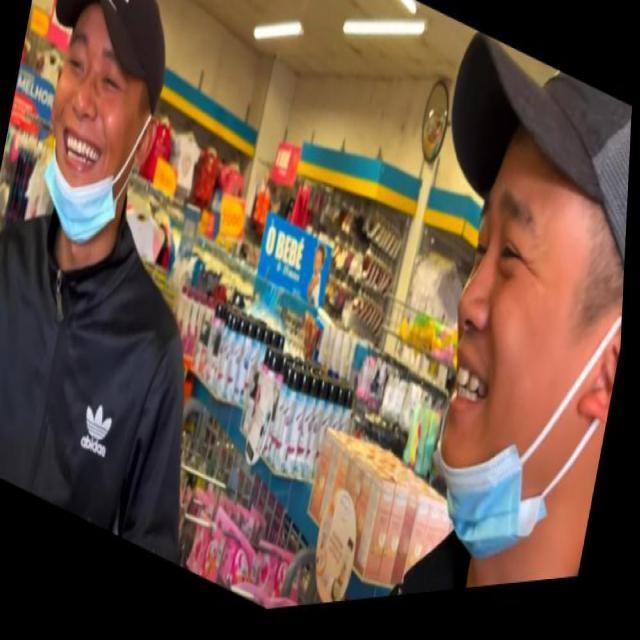hairnet: (423, 177, 606, 602), (34, 18, 148, 262)
